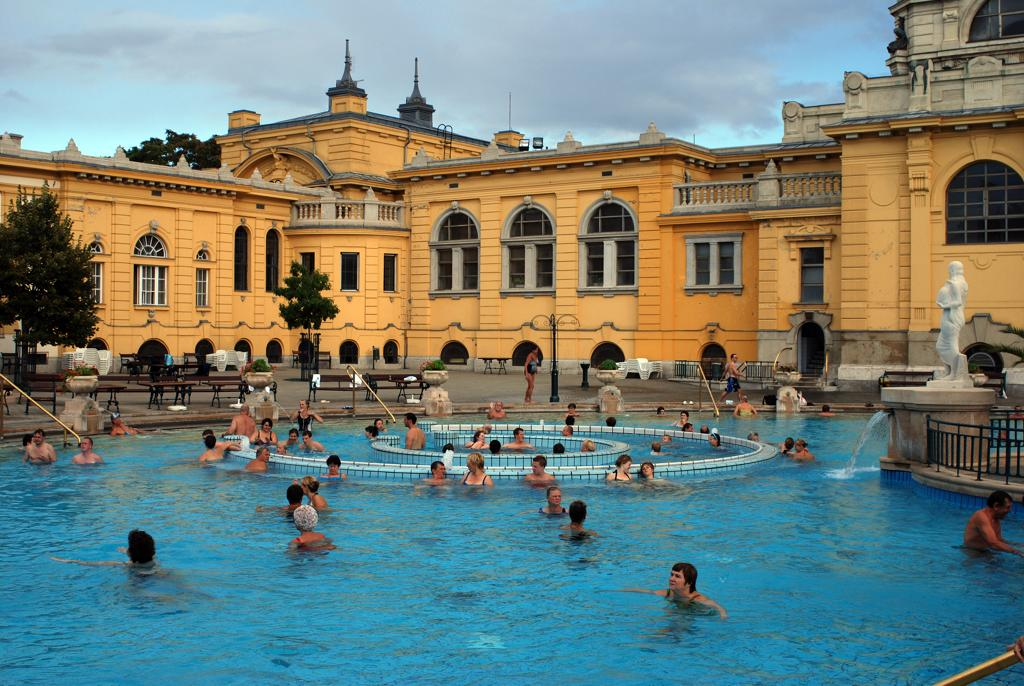face: (668, 566, 685, 590), (995, 501, 1010, 518), (641, 462, 654, 477), (549, 491, 561, 505), (532, 461, 542, 474), (435, 466, 445, 478), (623, 458, 631, 472), (81, 438, 90, 450), (260, 449, 269, 461), (466, 460, 474, 473), (33, 432, 42, 443), (516, 431, 525, 441), (329, 462, 337, 473), (262, 422, 270, 432), (302, 435, 310, 445), (299, 400, 306, 411), (113, 415, 121, 424), (377, 420, 384, 430), (495, 401, 502, 411), (661, 435, 669, 443), (562, 427, 569, 436), (289, 433, 296, 441), (479, 432, 485, 441)
